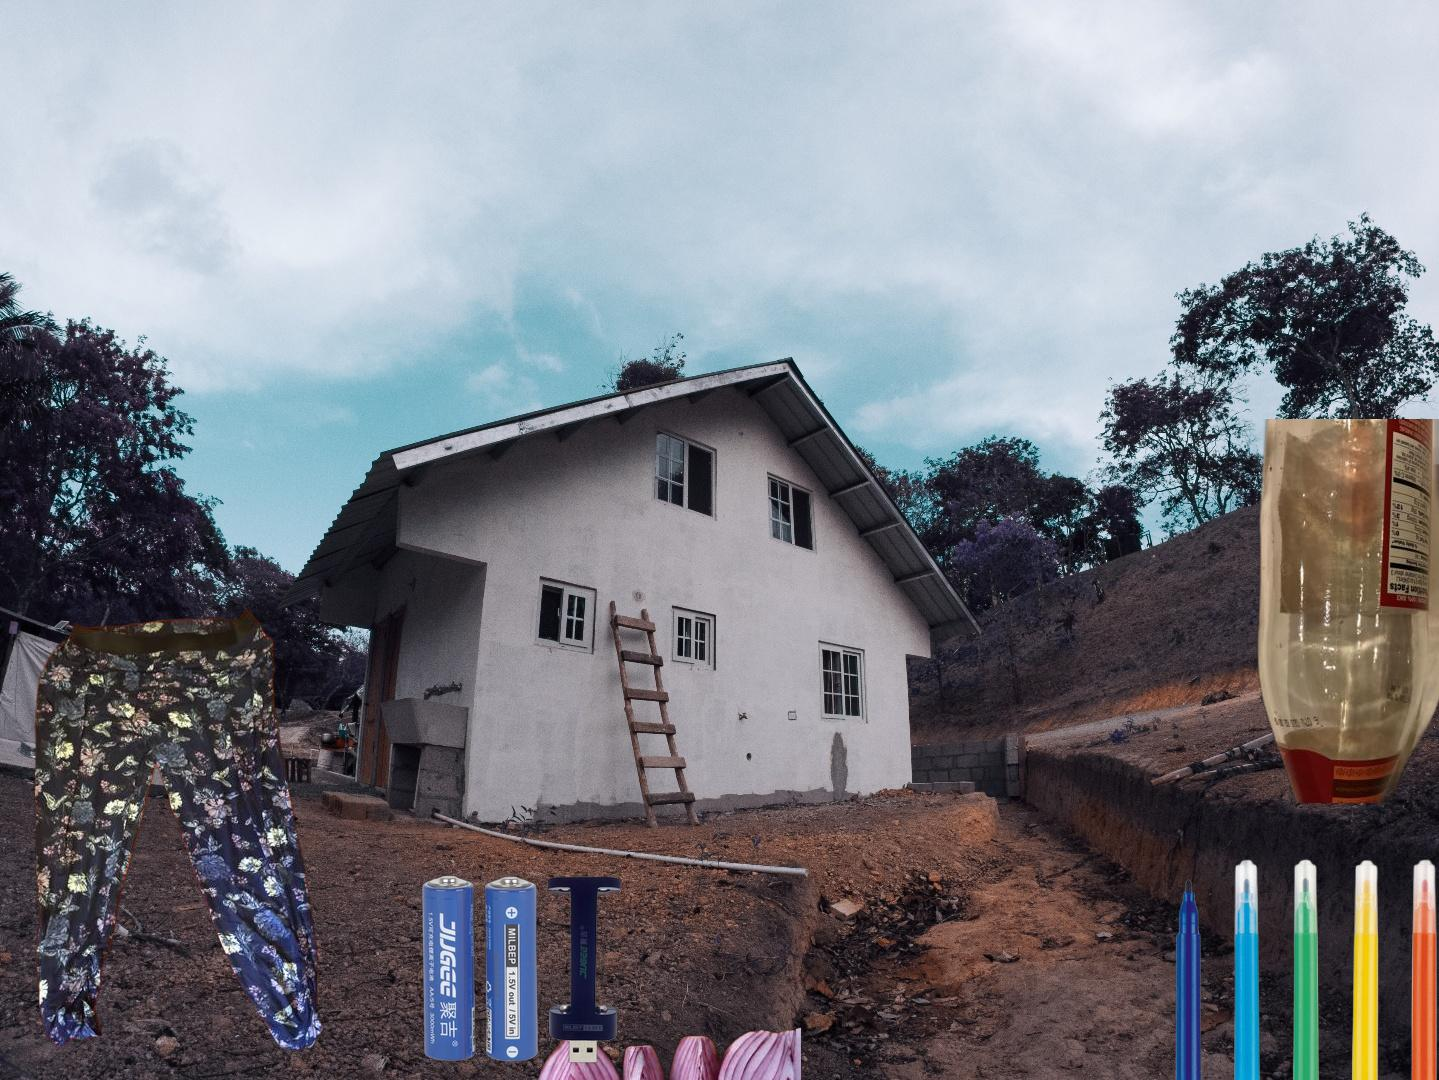battery: (400, 824, 623, 1066)
biological: (524, 1019, 801, 1080)
clothes: (32, 563, 376, 1056)
glass: (1252, 419, 1439, 803)
penholder: (1171, 857, 1439, 1080)
